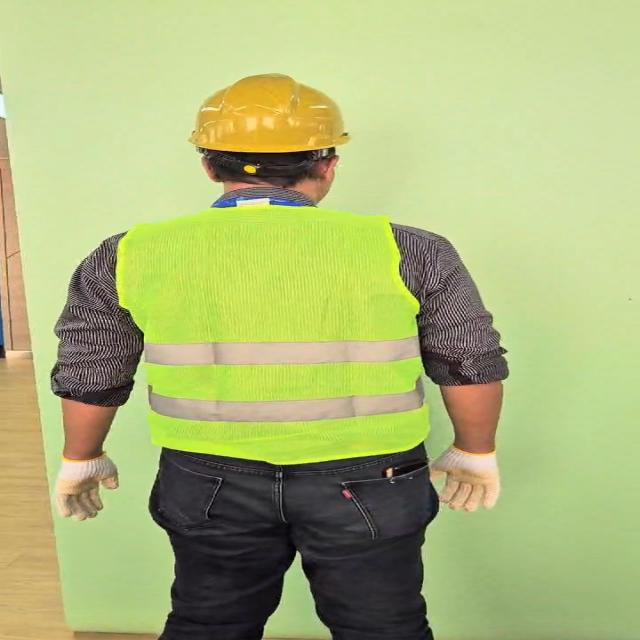gloves: (432, 445, 506, 512), (55, 451, 120, 520)
helmet: (185, 72, 355, 156)
safety_vest: (118, 195, 438, 460)
